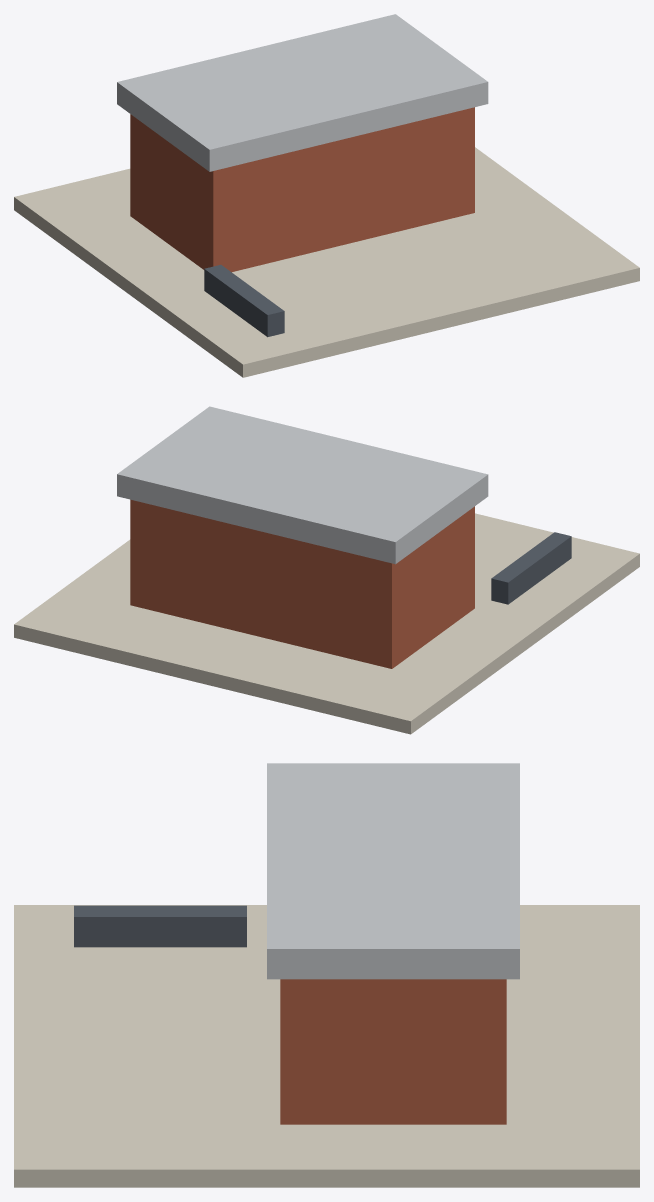
3 renders of one model, top to bottom at view 1: azimuth 30°, elevation 25°; view 2: azimuth 150°, elevation 25°; view 3: azimuth 270°, elevation 25°, orthographic. The views are drawn at different scales.
Visible parts, largest first — view 1: b12_v2_lod2; view 2: b12_v2_lod2; view 3: b12_v2_lod2.
Boxes of the visible parts, bbox=[...] form: b12_v2_lod2: bbox=[14, 14, 639, 377]; b12_v2_lod2: bbox=[14, 406, 639, 734]; b12_v2_lod2: bbox=[14, 763, 639, 1187].
Size of the model in its own units: 0.94 by 0.33 by 0.94.
